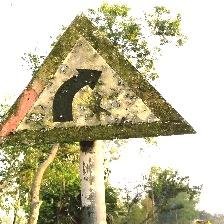Right-turn: (0, 11, 196, 143)
